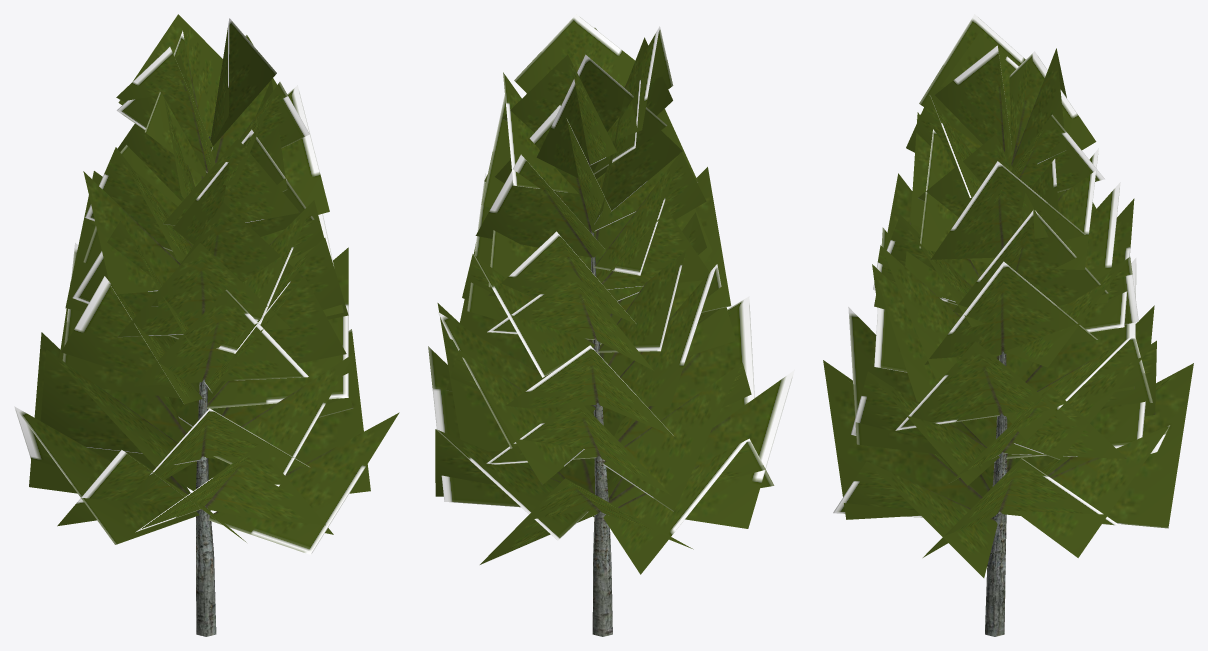
Rendered from tree431.obj.
3 renders of one model, left to right at view 1: azimuth 30°, elevation 25°; view 2: azimuth 150°, elevation 25°; view 3: azimuth 270°, elevation 25°, orthographic. The views are drawn at different scales.
Parts seen in each view (by area): view 1: g2, g1; view 2: g2, g1; view 3: g2, g1.
Boxes of the visible parts, left/top/right/bottom form: g2: left=14, top=14, right=399, bottom=554; g1: left=196, top=136, right=216, bottom=636; g2: left=428, top=14, right=794, bottom=574; g1: left=591, top=231, right=612, bottom=636; g2: left=823, top=14, right=1193, bottom=577; g1: left=985, top=351, right=1007, bottom=636.
Size of the model in its own units: 1.94 by 3.43 by 1.93.
2 materials, 2 textured.
